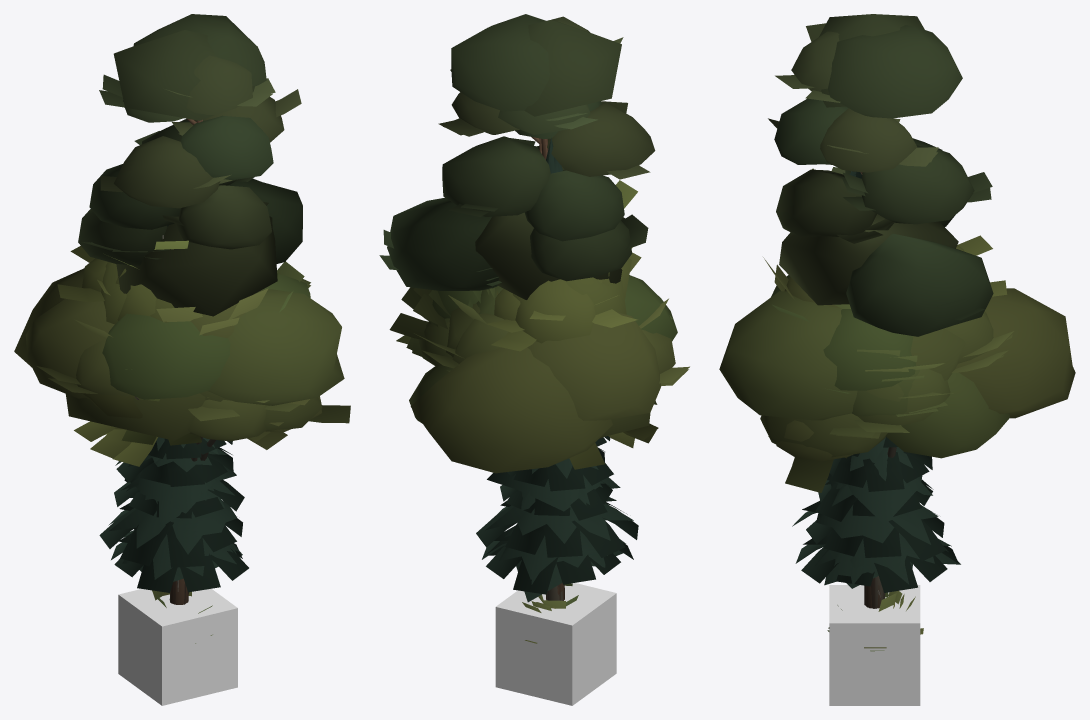
The model's file is trees.glb.
3 renders of one model, left to right at view 1: azimuth 30°, elevation 25°; view 2: azimuth 150°, elevation 25°; view 3: azimuth 270°, elevation 25°, orthographic. The views are drawn at different scales.
Parts seen in each view (by area): view 1: broadleaf_1, pine_0, pine_2, spruce_0, pine_1, Cube, broadleaf_0, birch_0, broadleaf_2, birch_1, spruce_2, spruce_1 (+1 smaller); view 2: broadleaf_1, pine_0, pine_1, spruce_0, Cube, pine_2, broadleaf_0, birch_0, spruce_2, birch_1, broadleaf_2, spruce_1; view 3: broadleaf_1, pine_1, pine_0, broadleaf_0, spruce_0, Cube, pine_2, spruce_2, broadleaf_2, spruce_1, birch_0.
Part boxes in pixels (x1=…): broadleaf_1: x1=14, y1=268, x2=344, y2=461; pine_0: x1=78, y1=55, x2=301, y2=604; pine_2: x1=113, y1=30, x2=277, y2=604; spruce_0: x1=99, y1=225, x2=248, y2=592; pine_1: x1=89, y1=14, x2=302, y2=604; Cube: x1=118, y1=588, x2=237, y2=705; broadleaf_0: x1=36, y1=261, x2=350, y2=602; birch_0: x1=57, y1=235, x2=208, y2=466; broadleaf_2: x1=65, y1=391, x2=230, y2=440; birch_1: x1=81, y1=262, x2=174, y2=418; spruce_2: x1=124, y1=465, x2=242, y2=581; spruce_1: x1=122, y1=437, x2=240, y2=578; broadleaf_1: x1=409, y1=275, x2=677, y2=596; pine_0: x1=379, y1=16, x2=655, y2=600; pine_1: x1=387, y1=14, x2=624, y2=600; spruce_0: x1=476, y1=138, x2=638, y2=594; Cube: x1=495, y1=583, x2=616, y2=705; pine_2: x1=475, y1=20, x2=625, y2=299; broadleaf_0: x1=389, y1=252, x2=689, y2=600; birch_0: x1=487, y1=180, x2=658, y2=469; spruce_2: x1=487, y1=157, x2=622, y2=602; birch_1: x1=520, y1=272, x2=626, y2=438; broadleaf_2: x1=446, y1=303, x2=650, y2=600; spruce_1: x1=486, y1=143, x2=620, y2=567; broadleaf_1: x1=719, y1=275, x2=1075, y2=606; pine_1: x1=774, y1=25, x2=993, y2=608; pine_0: x1=768, y1=23, x2=992, y2=608; broadleaf_0: x1=760, y1=257, x2=1013, y2=600; spruce_0: x1=792, y1=171, x2=958, y2=597; Cube: x1=829, y1=585, x2=920, y2=705; pine_2: x1=779, y1=14, x2=958, y2=608; spruce_2: x1=827, y1=473, x2=960, y2=588; broadleaf_2: x1=875, y1=328, x2=965, y2=608; spruce_1: x1=824, y1=437, x2=932, y2=585; birch_0: x1=812, y1=168, x2=1007, y2=296.
Size of the model in its own units: 7.25 by 16.37 by 7.82.
